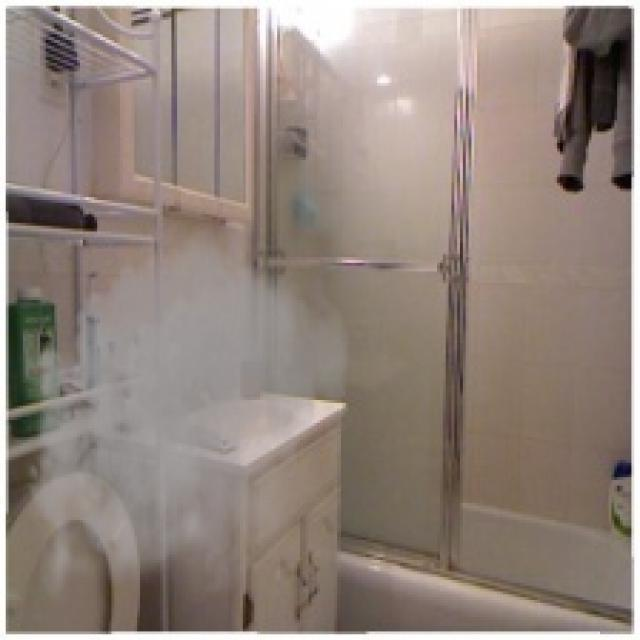Smoke: (11, 217, 360, 614)
